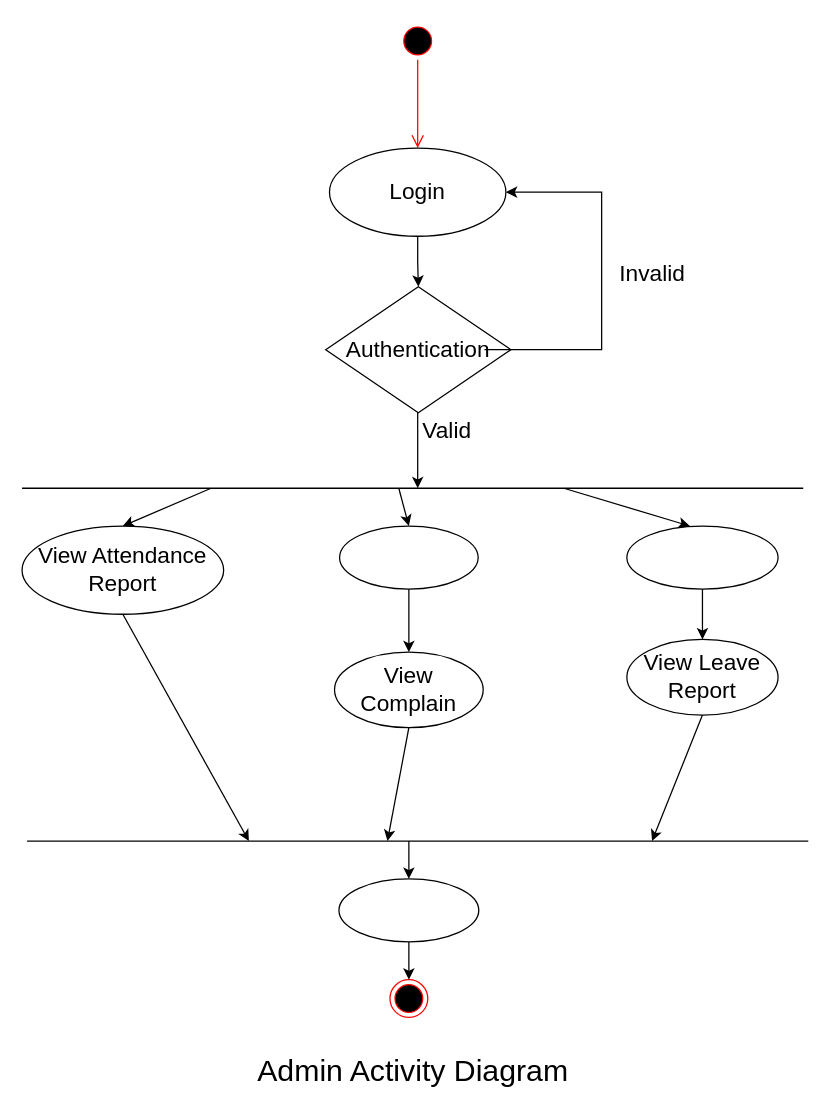
Image size: 832x1119. Some labels were removed from this diagram. Each missing label, with the centre of its shape:
"Apply Leave" belongs at point (702, 557).
"Complain" belongs at point (408, 557).
"Logout" belongs at point (408, 910).
